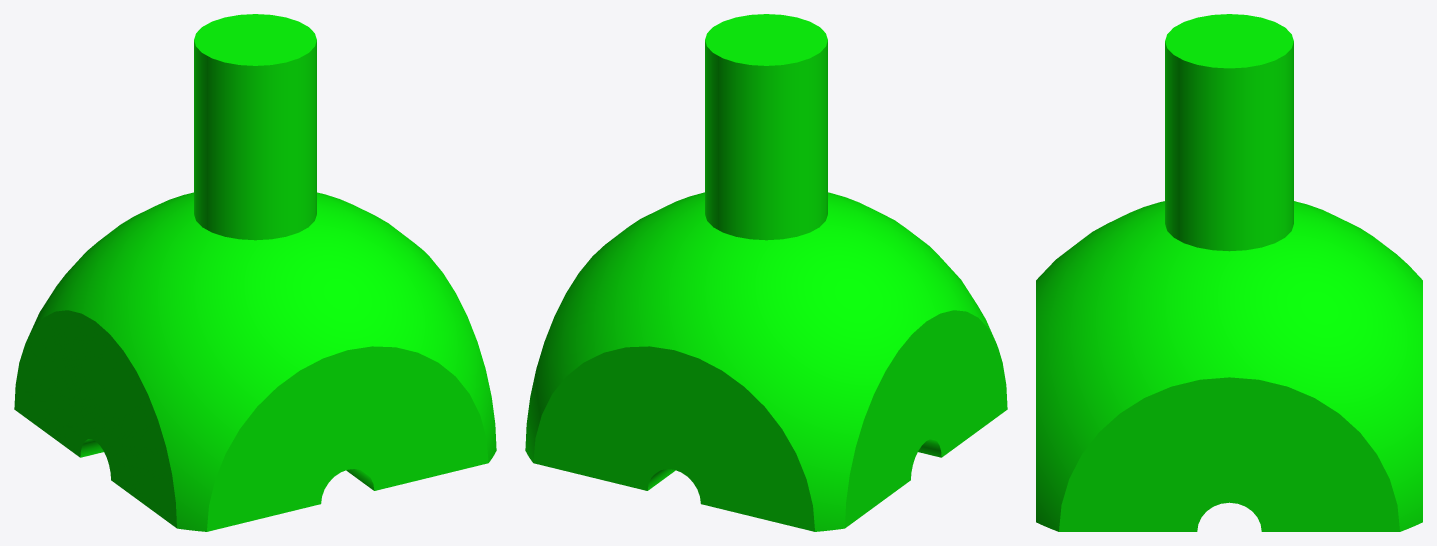
Rendered from bs-socket.glb.
3 views of the same model, side by side, from view 1: azimuth 30°, elevation 25°; view 2: azimuth 150°, elevation 25°; view 3: azimuth 270°, elevation 25° (orthographic). The views are drawn at different scales.
Visible parts, largest first — view 1: Body2; view 2: Body2; view 3: Body2.
Part boxes in pixels (box(x1,y1,x2,y2)): Body2: box(14, 14, 496, 531); Body2: box(525, 14, 1007, 531); Body2: box(1036, 14, 1422, 531).
Size of the model in its own units: 0.03 by 0.035 by 0.03.
